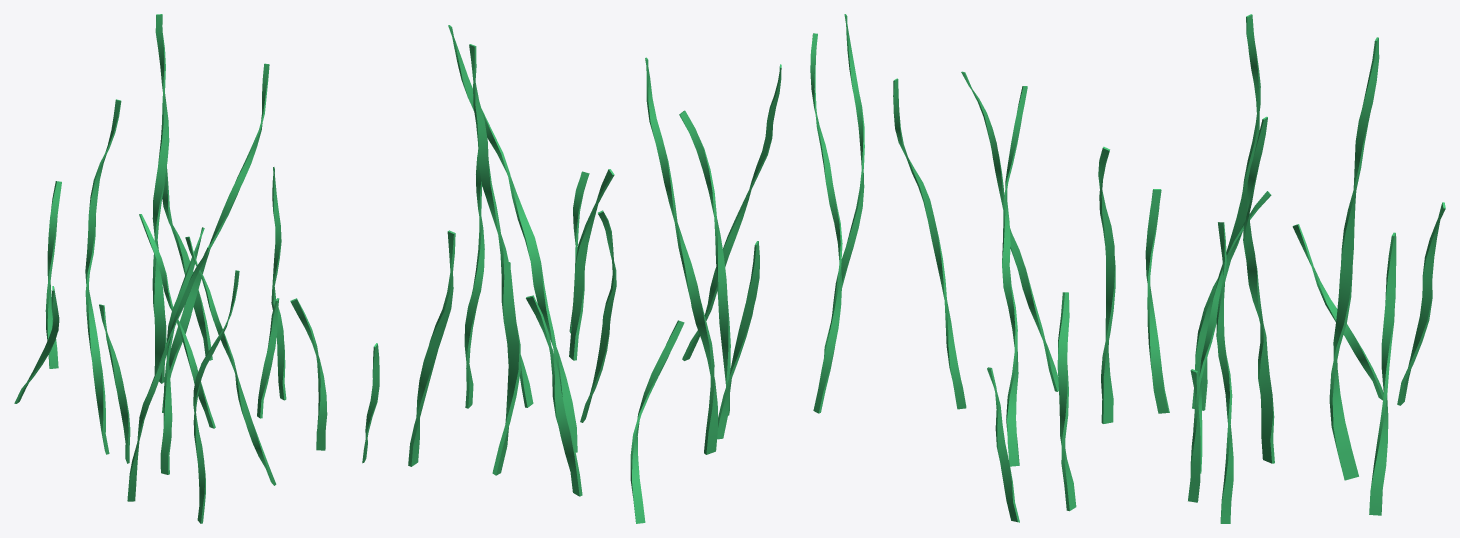
File: coral_seaweed_A_ultralight.fbx
The picture shows the model from 3 angles, left to right: view 1: azimuth 30°, elevation 25°; view 2: azimuth 150°, elevation 25°; view 3: azimuth 270°, elevation 25°; orthographic projection. The views are drawn at different scales.
Parts seen in each view (by area): view 1: coral_seaweed_A_ultralight; view 2: coral_seaweed_A_ultralight; view 3: coral_seaweed_A_ultralight.
Boxes of the visible parts, box(x1,y1,x2,y2) form: coral_seaweed_A_ultralight: box(14, 14, 379, 523); coral_seaweed_A_ultralight: box(408, 14, 864, 523); coral_seaweed_A_ultralight: box(893, 14, 1445, 523).
Bounding box in the file's own units: 200 × 296 × 332.
